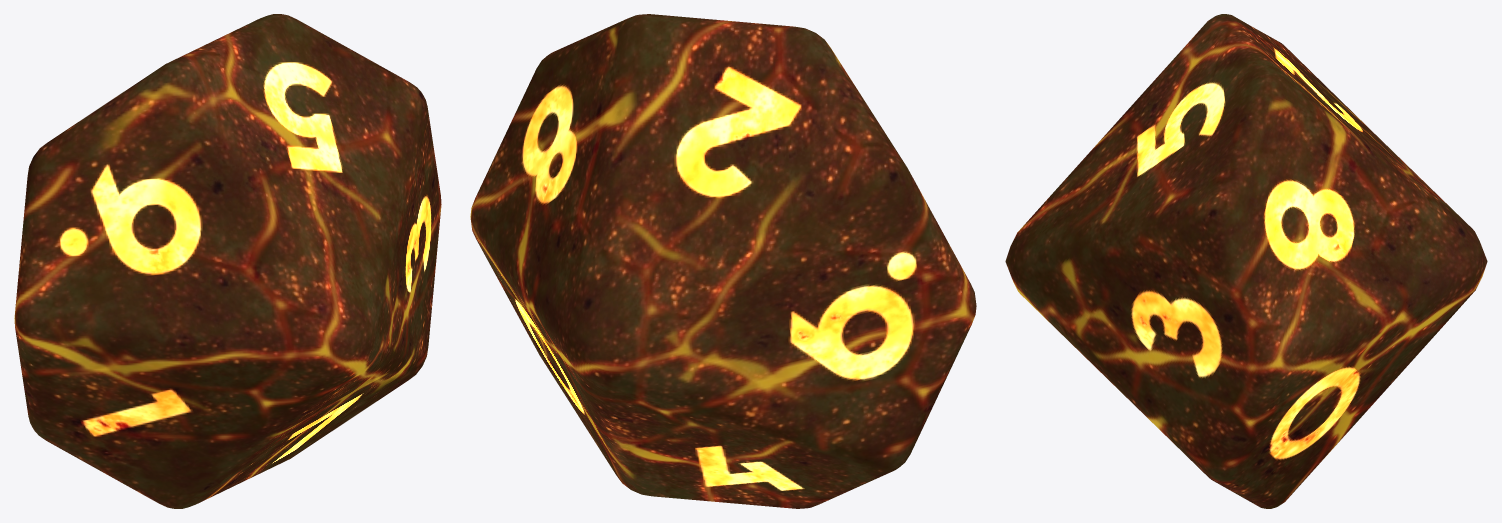
Rendered from magma20_d10.gltf.
3 renders of one model, left to right at view 1: azimuth 30°, elevation 25°; view 2: azimuth 150°, elevation 25°; view 3: azimuth 270°, elevation 25°, orthographic. The views are drawn at different scales.
Parts seen in each view (by area): view 1: dice_10; view 2: dice_10; view 3: dice_10.
Boxes of the visible parts, bbox=[...] form: dice_10: bbox=[14, 14, 441, 508]; dice_10: bbox=[470, 14, 976, 508]; dice_10: bbox=[1005, 14, 1487, 508].
Bounding box in the file's own units: 171 × 164 × 165.
1 material, 1 textured.
